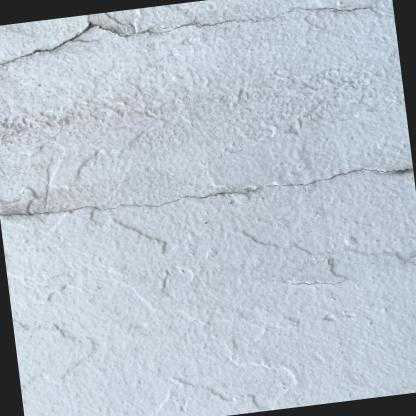crack: (0, 1, 393, 67), (4, 163, 413, 219)
